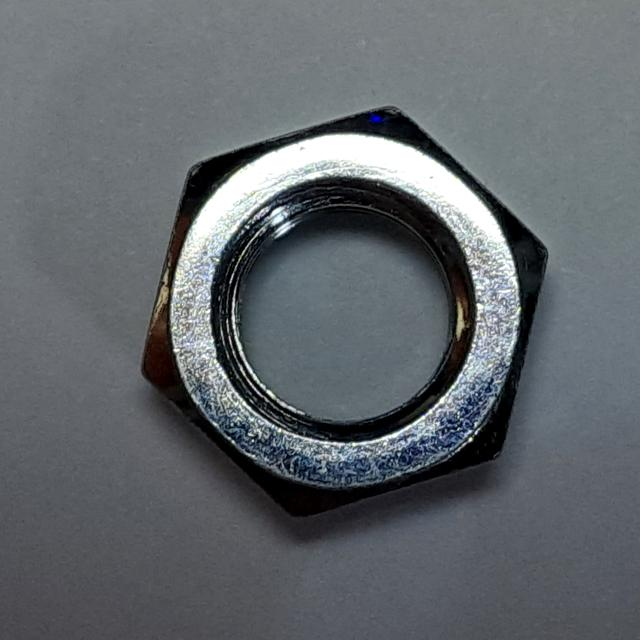Excellent: (123, 79, 572, 544)
